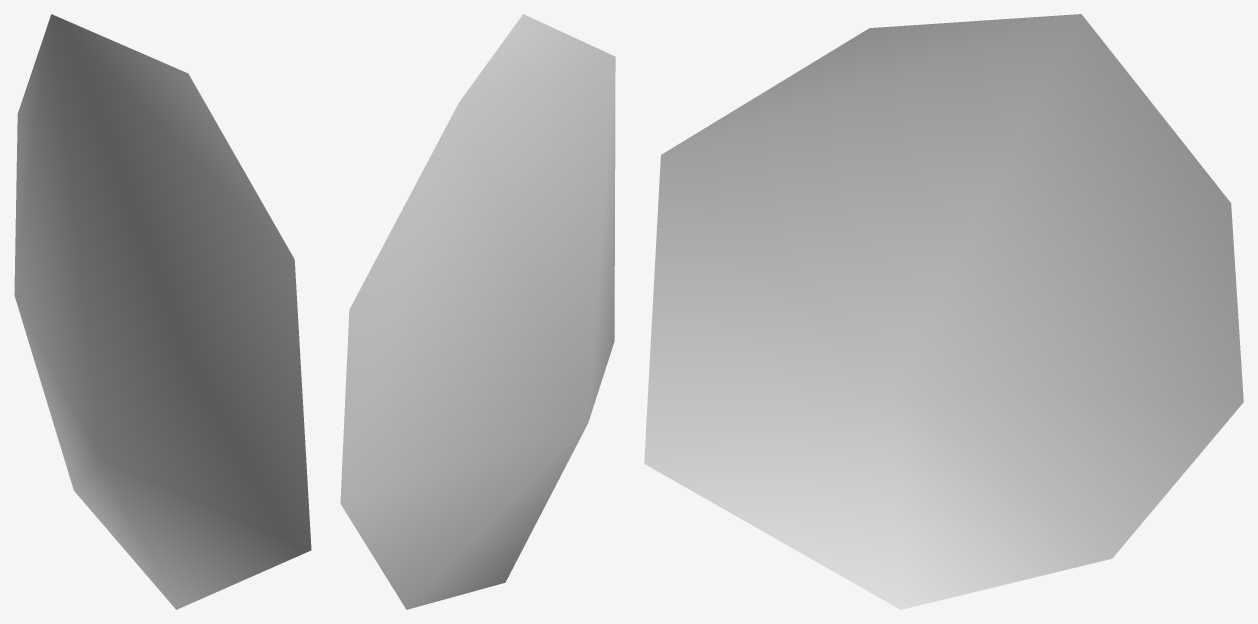
The picture shows the model from 3 angles, left to right: view 1: azimuth 30°, elevation 25°; view 2: azimuth 150°, elevation 25°; view 3: azimuth 270°, elevation 25°; orthographic projection. The views are drawn at different scales.
Size of the model in its own units: 0.0448 by 0.2532 by 0.237.
1 material, 1 textured.
